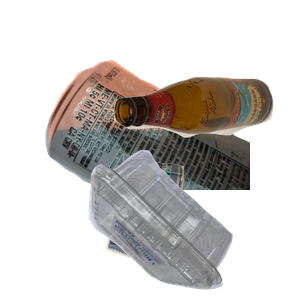glass: (111, 74, 300, 204)
metal: (43, 58, 283, 238)
plastic: (86, 147, 300, 300)
trash: (104, 152, 280, 300)
